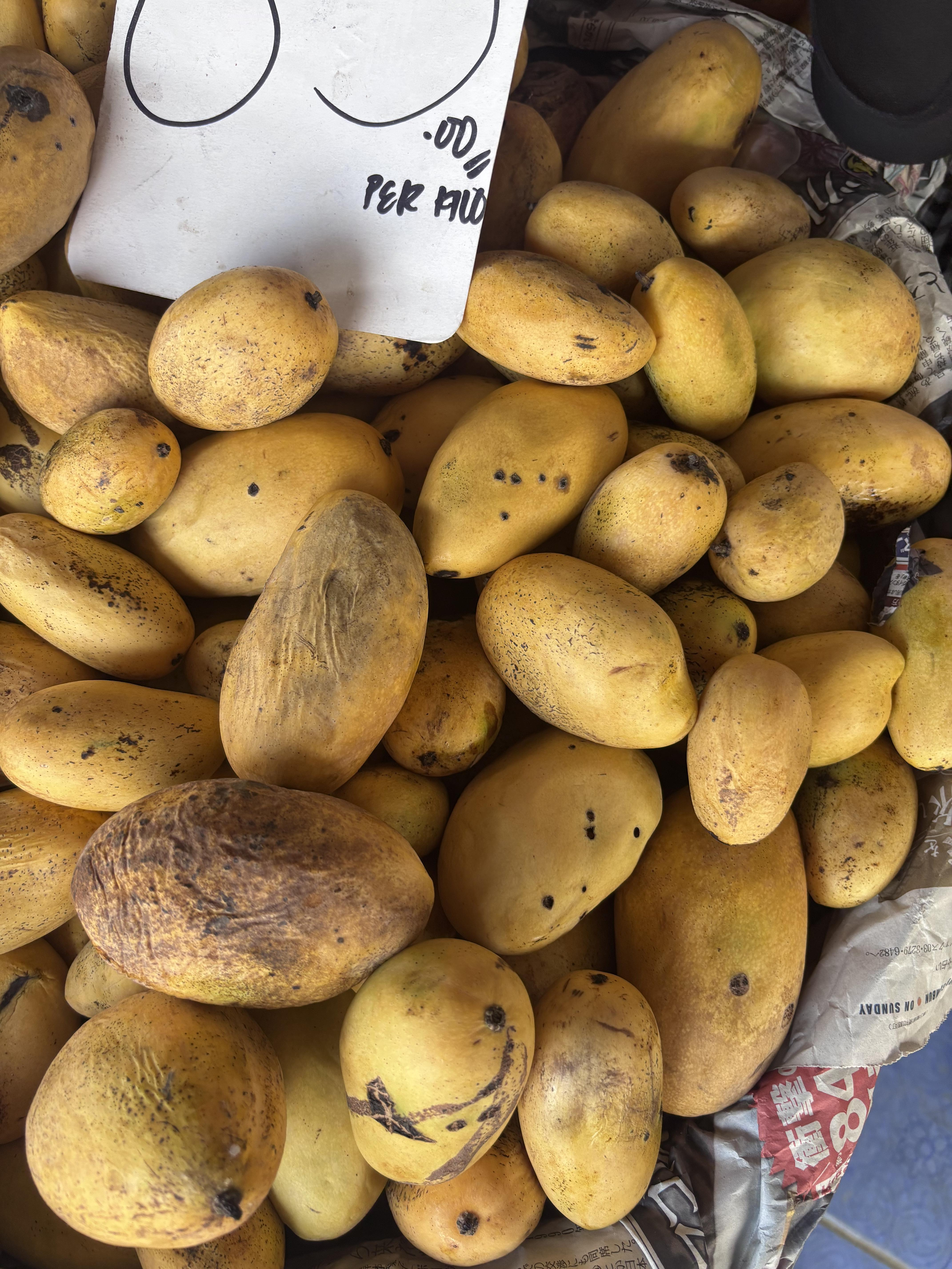mango: (72, 779, 434, 1009), (340, 939, 534, 1184), (476, 553, 697, 749), (519, 969, 662, 1230), (148, 266, 338, 431), (687, 654, 812, 844), (40, 408, 181, 534)
occluded: (26, 991, 286, 1248), (614, 787, 807, 1117), (220, 490, 428, 793), (438, 727, 662, 955), (129, 413, 402, 596), (413, 381, 628, 578), (564, 20, 762, 213), (250, 990, 386, 1240), (0, 513, 194, 680), (726, 238, 920, 405), (724, 398, 952, 529), (0, 681, 224, 812), (458, 250, 656, 385), (0, 290, 178, 434), (574, 443, 727, 595), (386, 1121, 546, 1266), (630, 256, 756, 440), (0, 46, 95, 271), (794, 736, 918, 908), (373, 375, 502, 528), (383, 616, 505, 776), (761, 631, 904, 767), (709, 462, 844, 603), (524, 181, 683, 300), (0, 789, 109, 953), (0, 939, 81, 1144), (883, 539, 952, 771), (670, 166, 810, 273), (504, 896, 616, 1008), (478, 102, 562, 251), (655, 578, 757, 698), (747, 560, 871, 651), (336, 764, 449, 857), (137, 1199, 285, 1269), (0, 622, 102, 718), (322, 329, 466, 396), (625, 421, 745, 498), (0, 390, 58, 514), (65, 943, 147, 1017), (42, 0, 116, 74), (185, 620, 246, 701), (0, 0, 49, 51)
